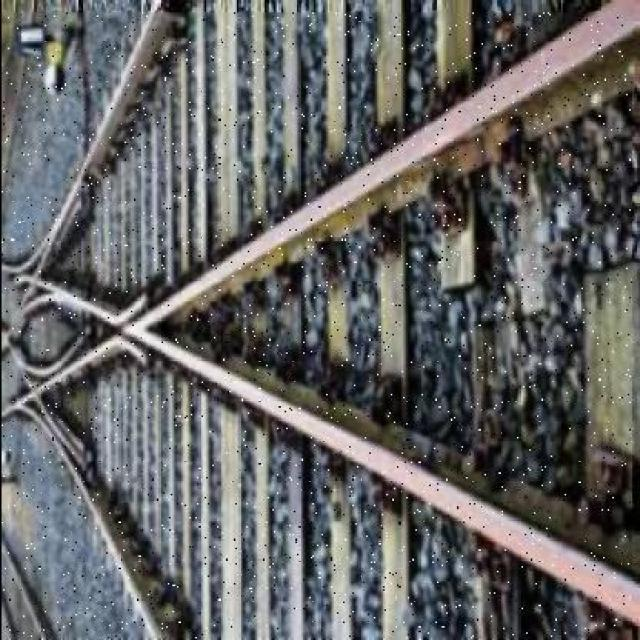rail: (1, 13, 632, 640)
